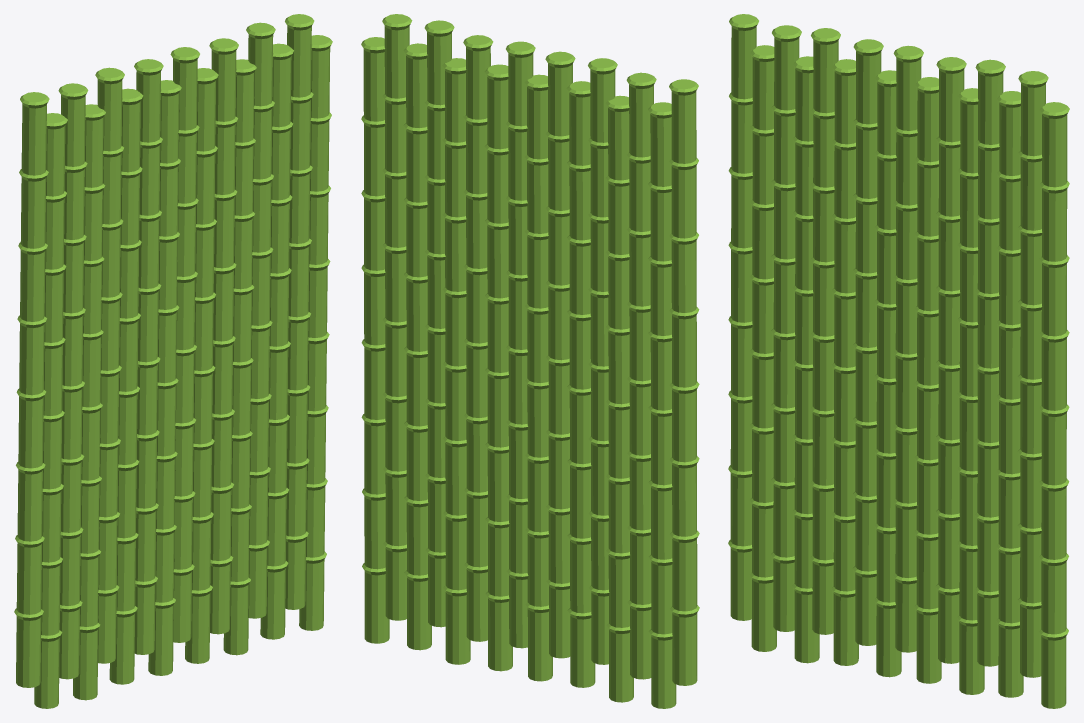
File: Green Bamboo Panel.glb
3 renders of one model, left to right at view 1: azimuth 30°, elevation 25°; view 2: azimuth 150°, elevation 25°; view 3: azimuth 330°, elevation 25°, orthographic. The views are drawn at different scales.
Visible parts, largest first — view 1: Node; view 2: Node; view 3: Node.
Part boxes in pixels (x1,y1,x2,y2): Node: (14,14,332,708); Node: (361,14,699,708); Node: (728,14,1069,708).
Bounding box in the file's own units: 1.66 × 3.06 × 0.2479.
